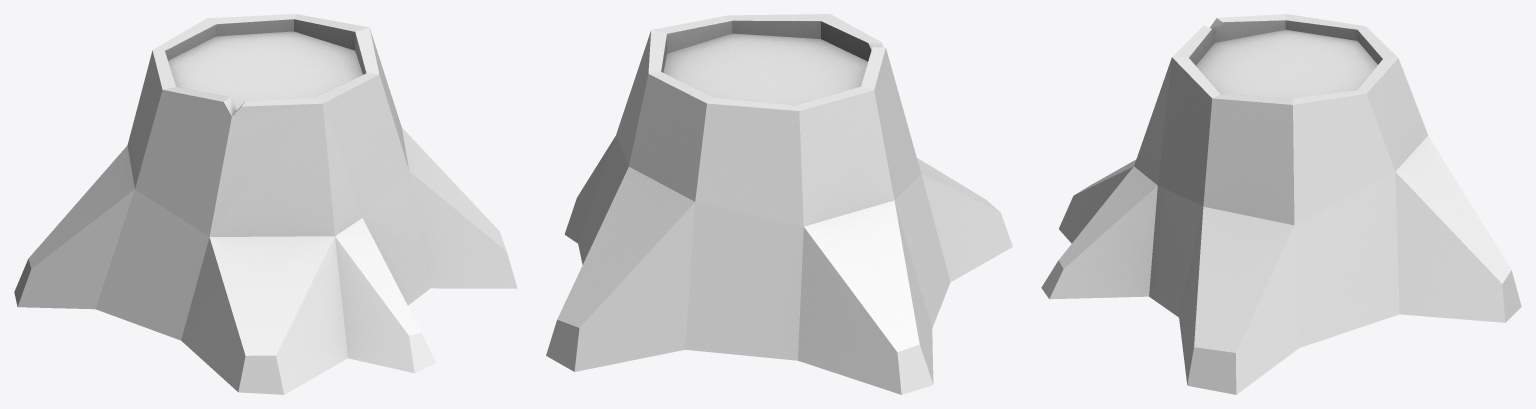
Rendered from TreeStump.fbx.
3 views of the same model, side by side, from view 1: azimuth 30°, elevation 25°; view 2: azimuth 150°, elevation 25°; view 3: azimuth 270°, elevation 25° (orthographic). The views are drawn at different scales.
Visible parts, largest first — view 1: Cylinder.010; view 2: Cylinder.010; view 3: Cylinder.010.
Boxes of the visible parts, x1,y1,x2,y2 form: Cylinder.010: (14, 14, 517, 394); Cylinder.010: (546, 14, 1012, 394); Cylinder.010: (1041, 14, 1521, 394).
Bounding box in the file's own units: 159 × 87.68 × 161.
